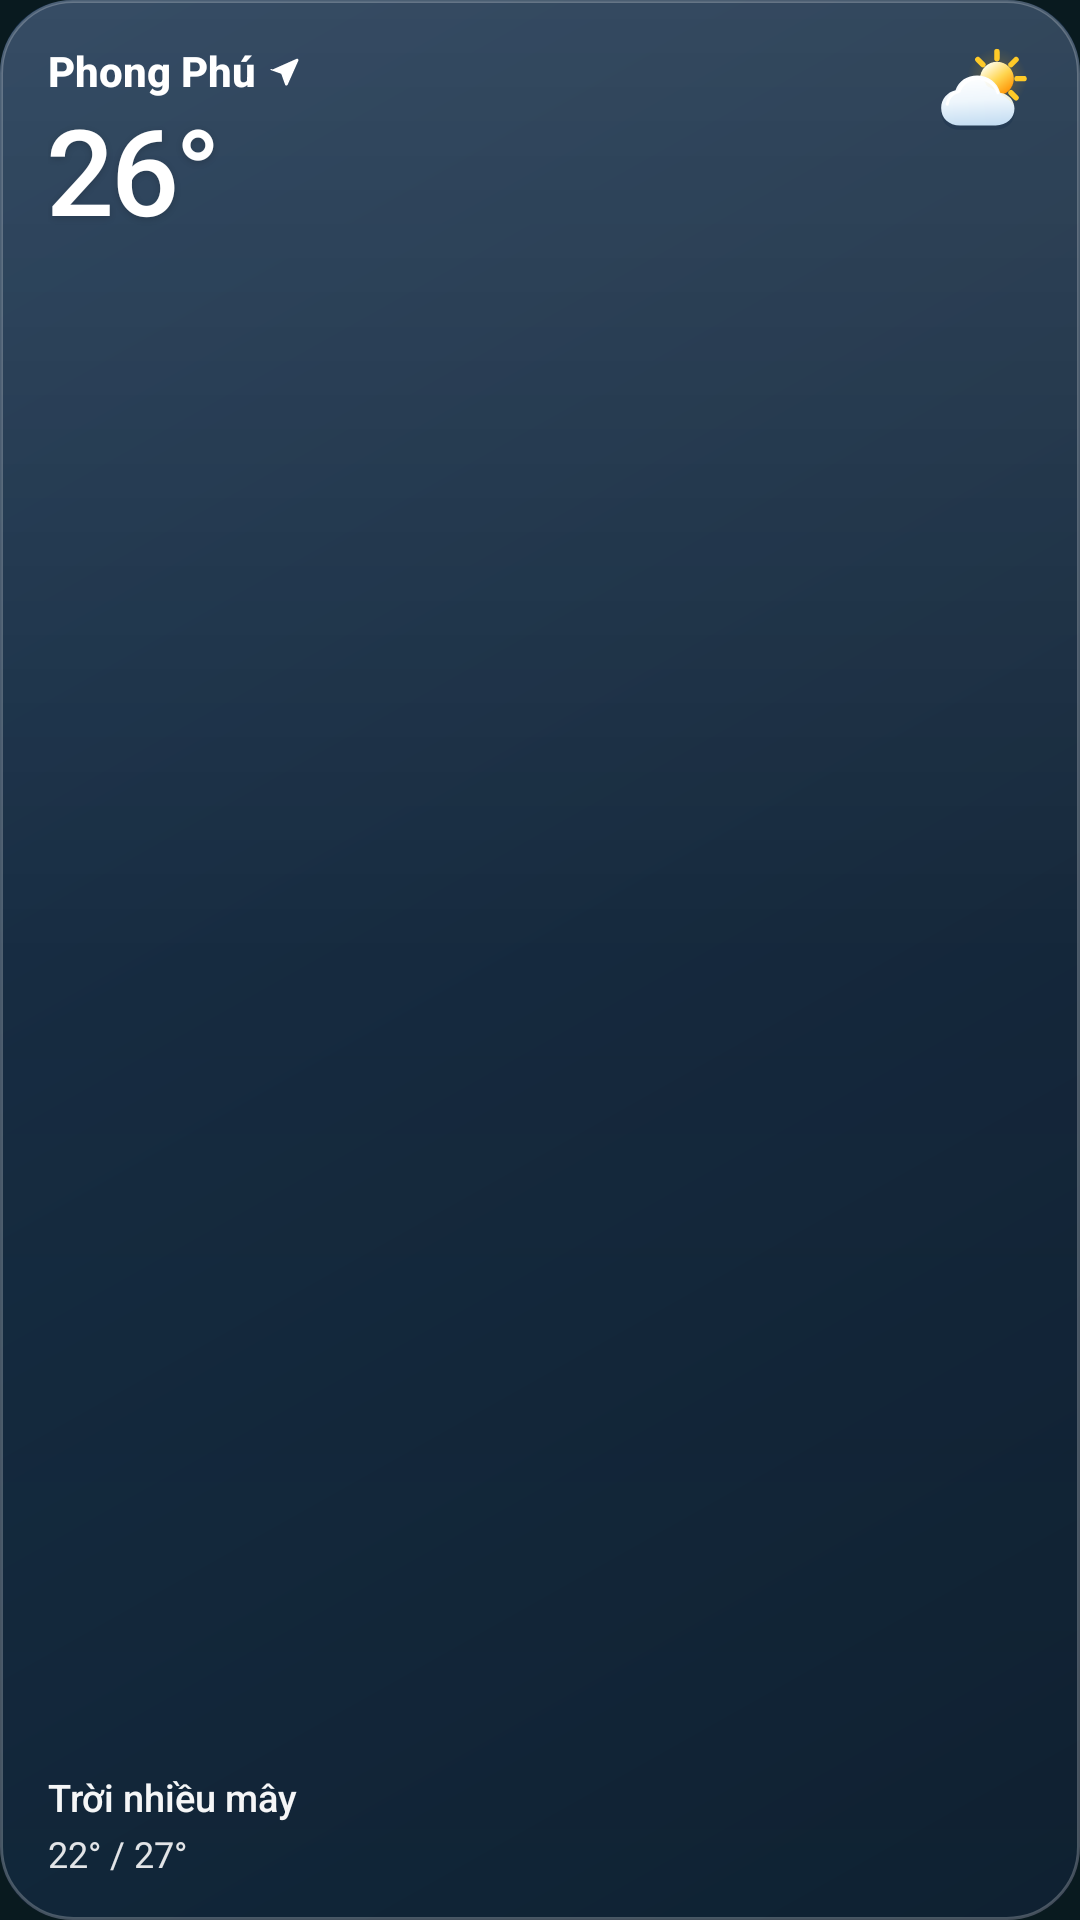

Where icons sit on this 1080 × 1920 app screen, as (x1, y1, x2, y2):
arrow current location: (270, 58, 299, 86)
weather partly cloudy: (941, 49, 1027, 126)
